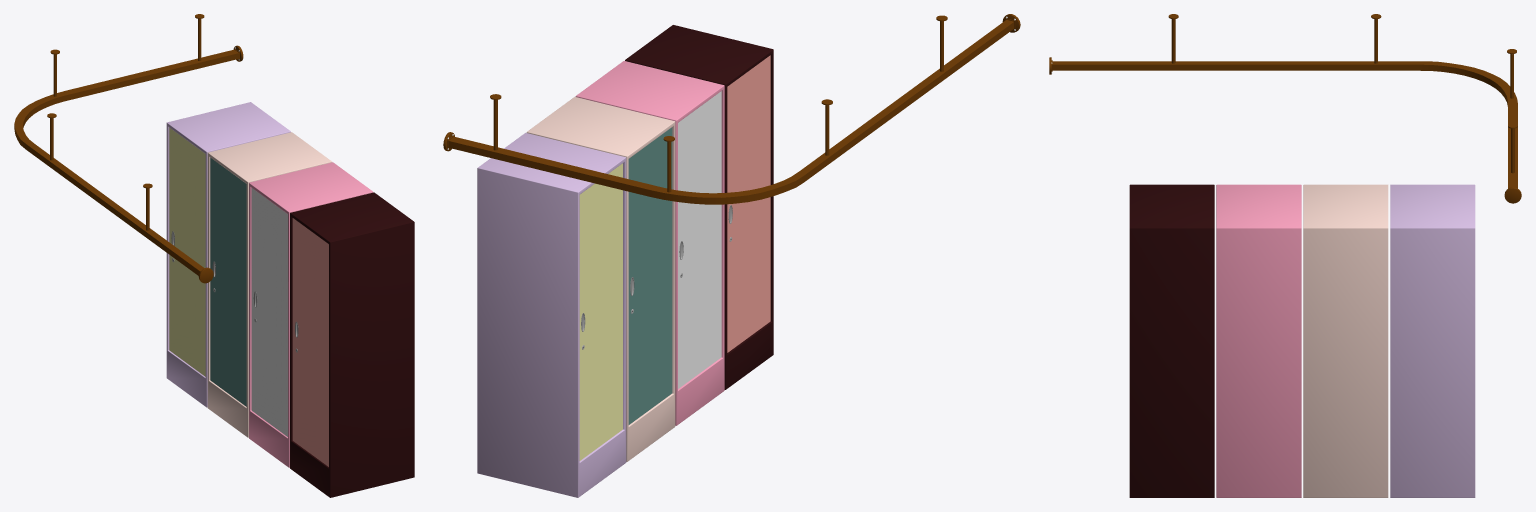
Rendered from locker.fbx.
3 views of the same model, side by side, from view 1: azimuth 30°, elevation 25°; view 2: azimuth 150°, elevation 25°; view 3: azimuth 270°, elevation 25° (orthographic). The views are drawn at different scales.
Parts seen in each view (by area): view 1: Plane.005, Plane.015, Plane.012, Plane.016, Cube.023; view 2: Plane.016, Plane.012, Plane.005, Plane.015, Cube.023; view 3: Plane.016, Plane.005, Plane.012, Plane.015, Cube.023.
Boxes of the visible parts, x1,y1,x2,y2 form: Plane.005: (290,192,414,497); Plane.015: (207,132,331,437); Plane.012: (249,162,373,467); Plane.016: (166,102,290,407); Cube.023: (14,48,239,275); Plane.016: (477,133,626,497); Plane.012: (575,61,724,425); Plane.005: (625,25,773,389); Plane.015: (526,97,675,461); Cube.023: (447,18,1015,204); Plane.016: (1390,184,1475,497); Plane.005: (1129,184,1214,497); Plane.012: (1216,184,1301,497); Plane.015: (1303,184,1388,497); Cube.023: (1051,60,1517,188).
Bounding box in the file's own units: 218 × 270 × 325.
